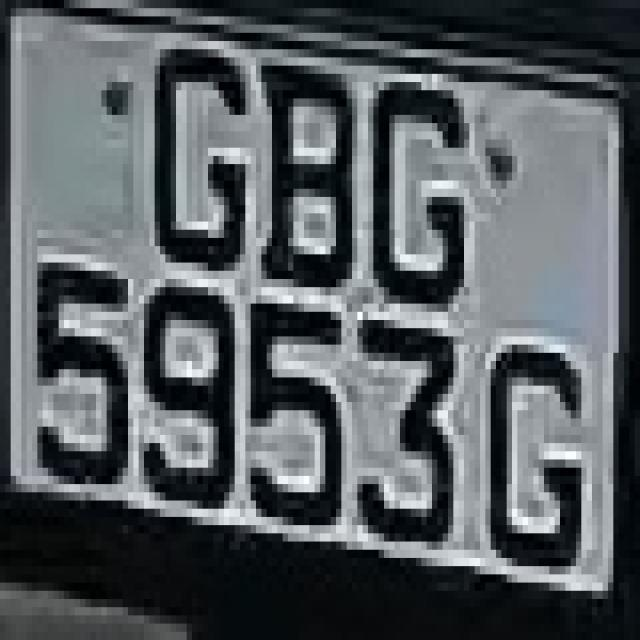3: (357, 304, 480, 566)
5: (245, 254, 358, 566), (27, 214, 133, 501)
9: (117, 263, 256, 542)
B: (250, 33, 378, 295)
G: (474, 304, 602, 574), (133, 41, 256, 287), (368, 73, 469, 344)
